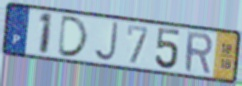1: (38, 11, 53, 57)
5: (155, 26, 182, 71)
7: (125, 24, 150, 67)
D: (56, 14, 90, 59)
J: (92, 20, 120, 63)
R: (184, 30, 215, 76)
